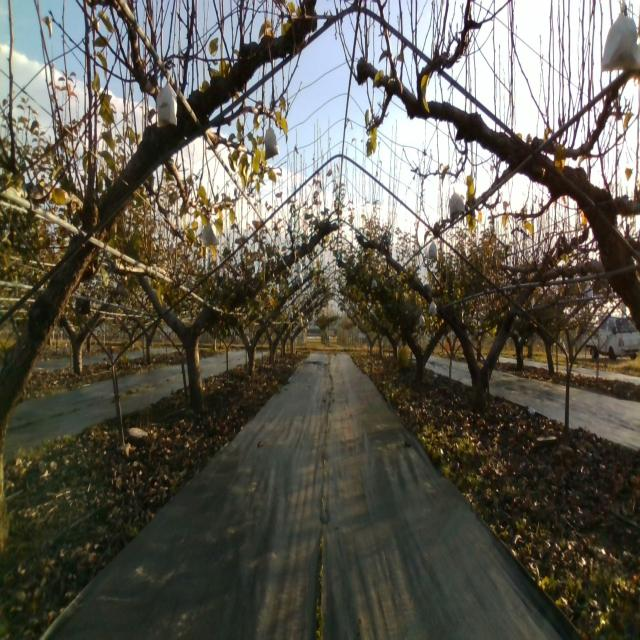pearbags: (601, 0, 640, 72), (156, 67, 178, 128), (264, 120, 280, 160), (448, 186, 466, 216), (201, 221, 221, 247)
